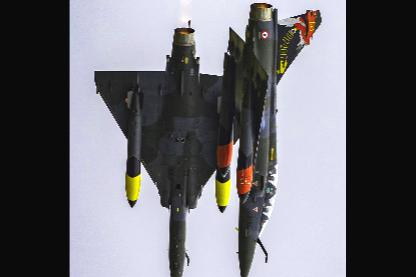Mirage2000: (95, 16, 240, 276), (217, 0, 322, 276)
